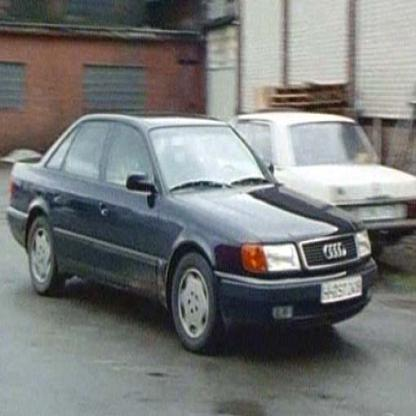Vehicle: (5, 109, 378, 355)
